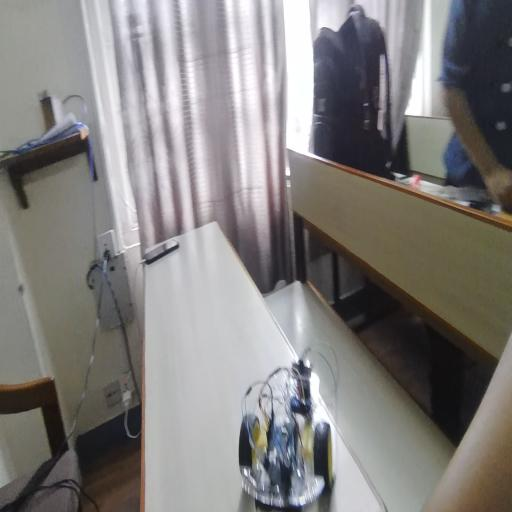car: (240, 339, 333, 502)
